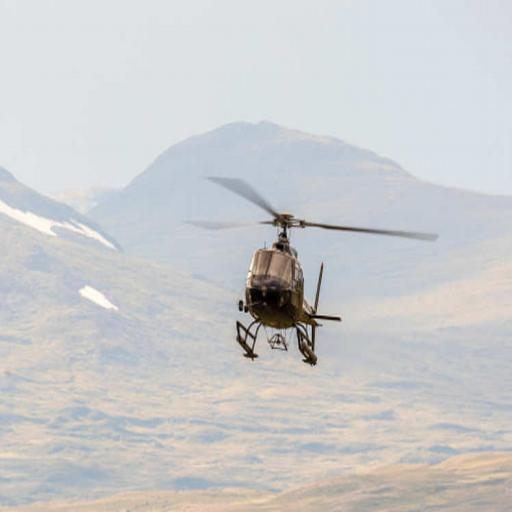helicopter: (186, 175, 445, 371)
